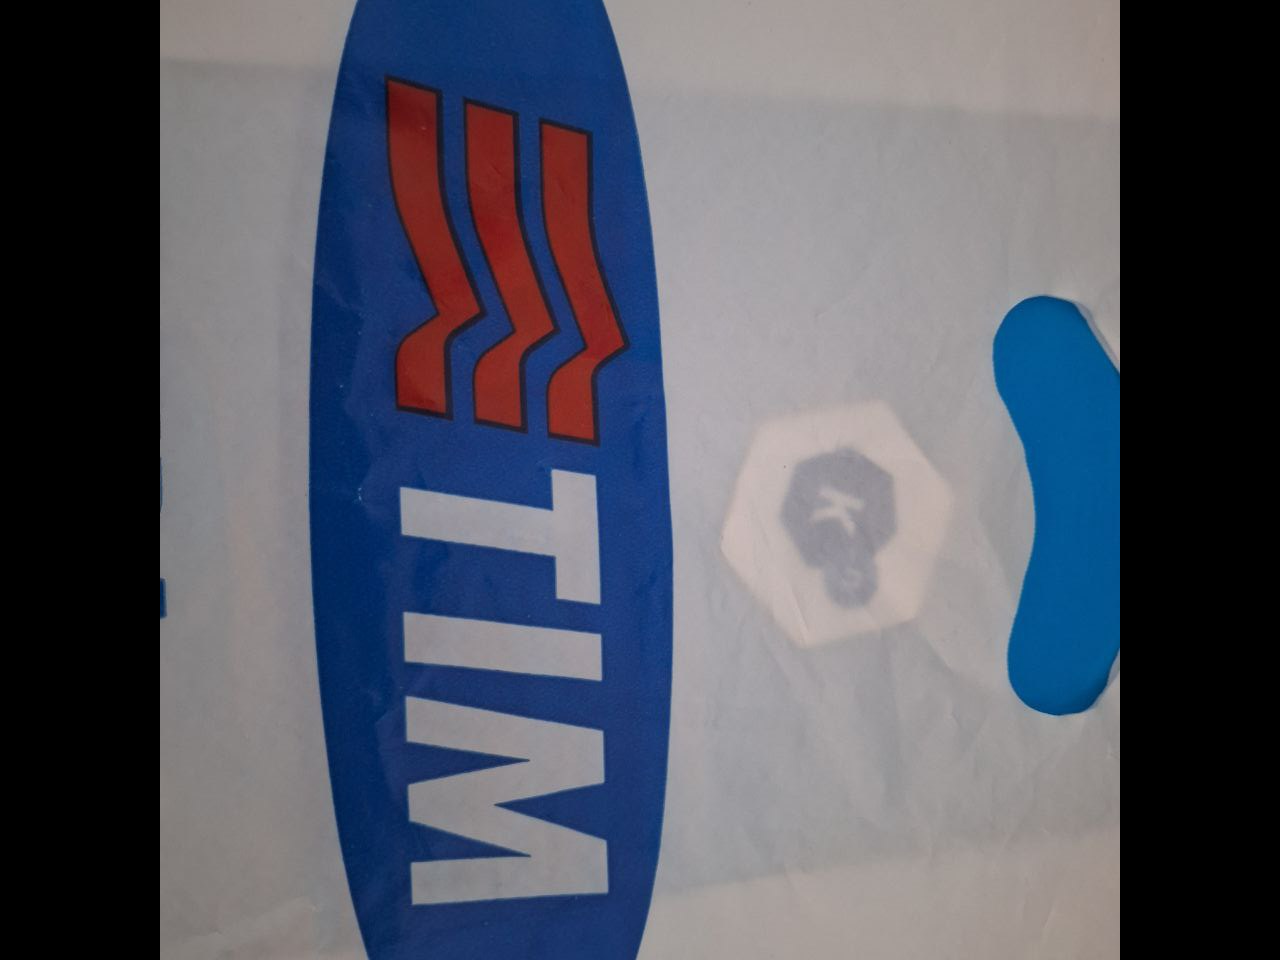knative: (776, 444, 900, 611)
